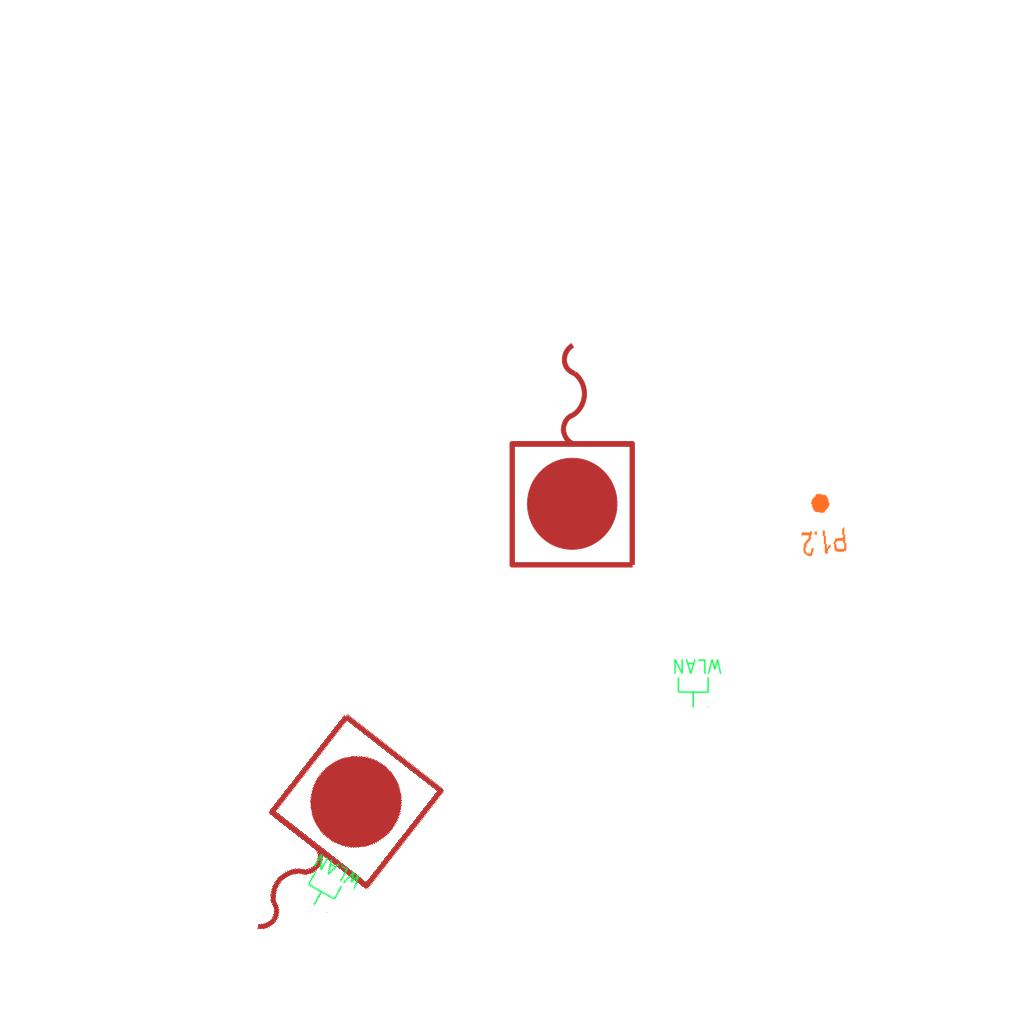Downlight_LED_Einbauleuchten_Flur: (795, 489, 849, 559)
WLAN: (294, 850, 366, 922), (672, 657, 724, 709)
Zugtaster: (192, 699, 456, 981), (502, 332, 646, 576)
